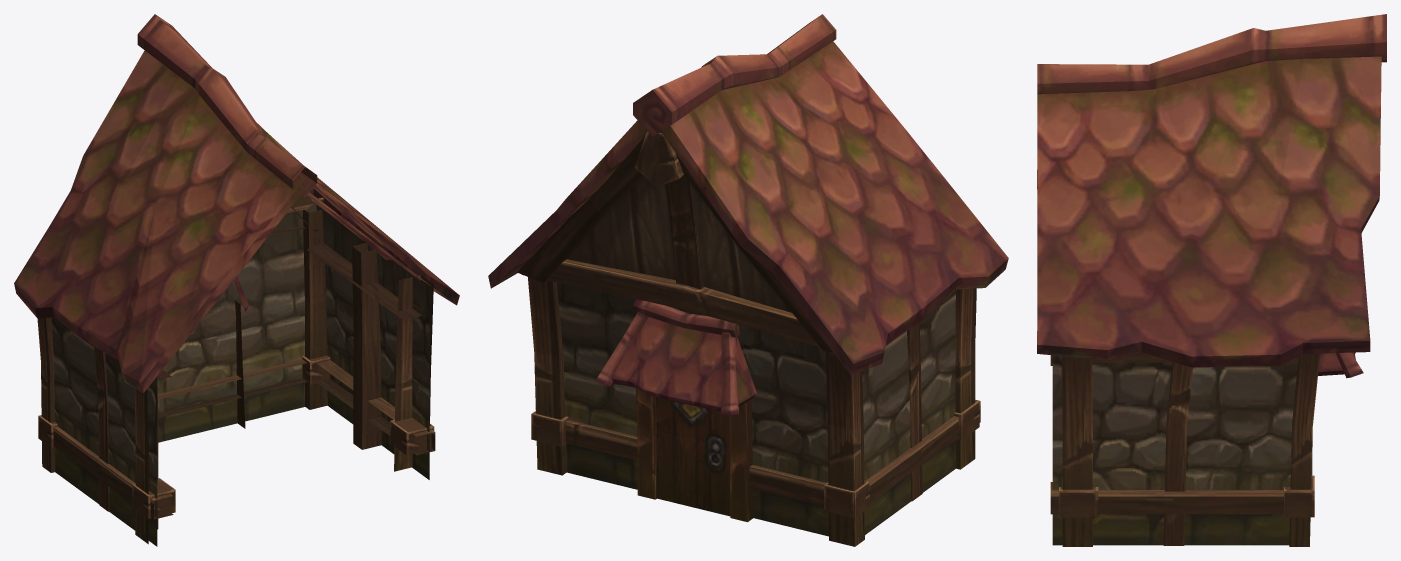
File: mod_building_01_d.fbx
The picture shows the model from 3 angles, left to right: view 1: azimuth 30°, elevation 25°; view 2: azimuth 150°, elevation 25°; view 3: azimuth 270°, elevation 25°; orthographic projection. The views are drawn at different scales.
Parts seen in each view (by area): view 1: obj1.061; view 2: obj1.061; view 3: obj1.061.
Part boxes in pixels (<box>): obj1.061: <box>14,14,459,546</box>; obj1.061: <box>488,14,1008,546</box>; obj1.061: <box>1037,14,1386,546</box>.
Size of the model in its own units: 7.81 by 9.1 by 6.31.
